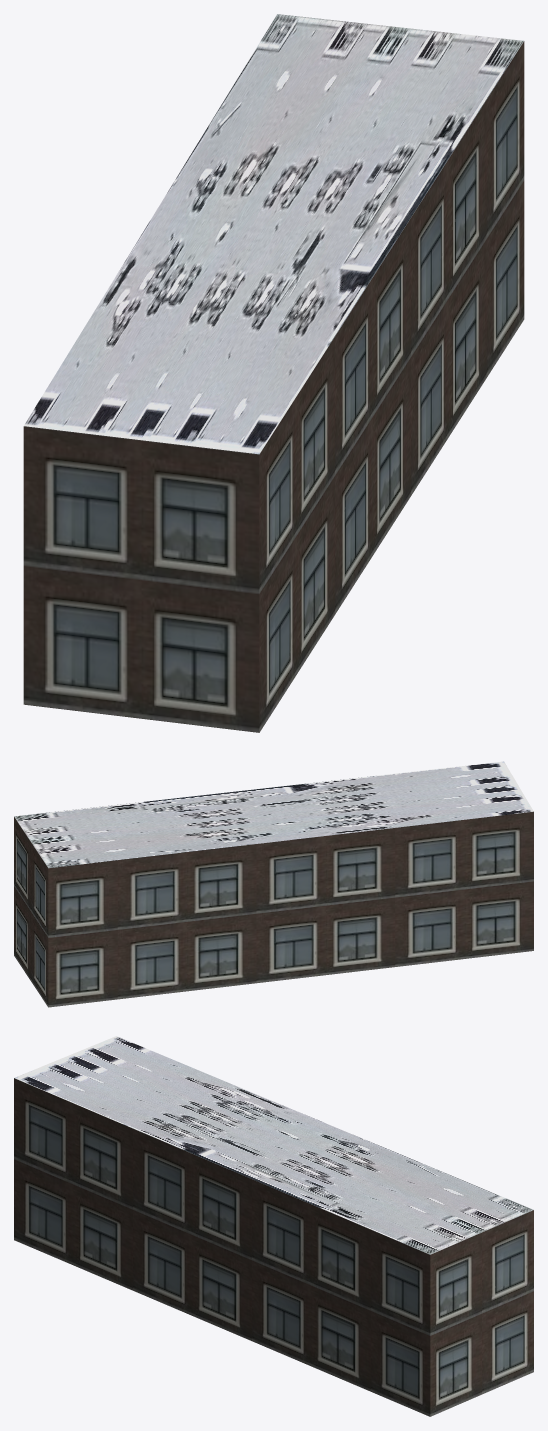
Rendered from ResTex__1784.fbx.
The picture shows the model from 3 angles, top to bottom: view 1: azimuth 30°, elevation 25°; view 2: azimuth 150°, elevation 25°; view 3: azimuth 270°, elevation 25°; orthographic projection. The views are drawn at different scales.
Visible parts, largest first — view 1: CityEngineMaterial_16_m, CityEngineMaterial_15_m; view 2: CityEngineMaterial_16_m, CityEngineMaterial_15_m; view 3: CityEngineMaterial_16_m, CityEngineMaterial_15_m.
Boxes of the visible parts, box(x1,y1,x2,y2) form: CityEngineMaterial_16_m: box(23, 41, 524, 732); CityEngineMaterial_15_m: box(24, 14, 523, 454); CityEngineMaterial_16_m: box(14, 811, 533, 1007); CityEngineMaterial_15_m: box(14, 761, 533, 868); CityEngineMaterial_16_m: box(14, 1078, 533, 1416); CityEngineMaterial_15_m: box(14, 1036, 533, 1254).
Size of the model in its own units: 17.37 by 6 by 17.44.
Materials: 2 (2 with a texture image).
